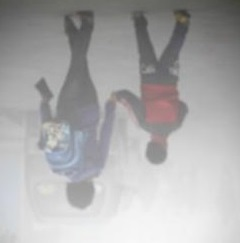person: (32, 8, 118, 210), (115, 12, 193, 162)
